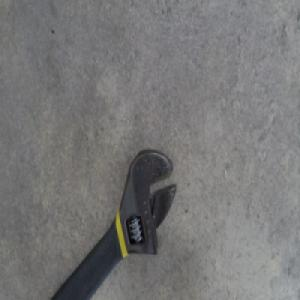AdjustableWrench: (52, 147, 180, 299)
